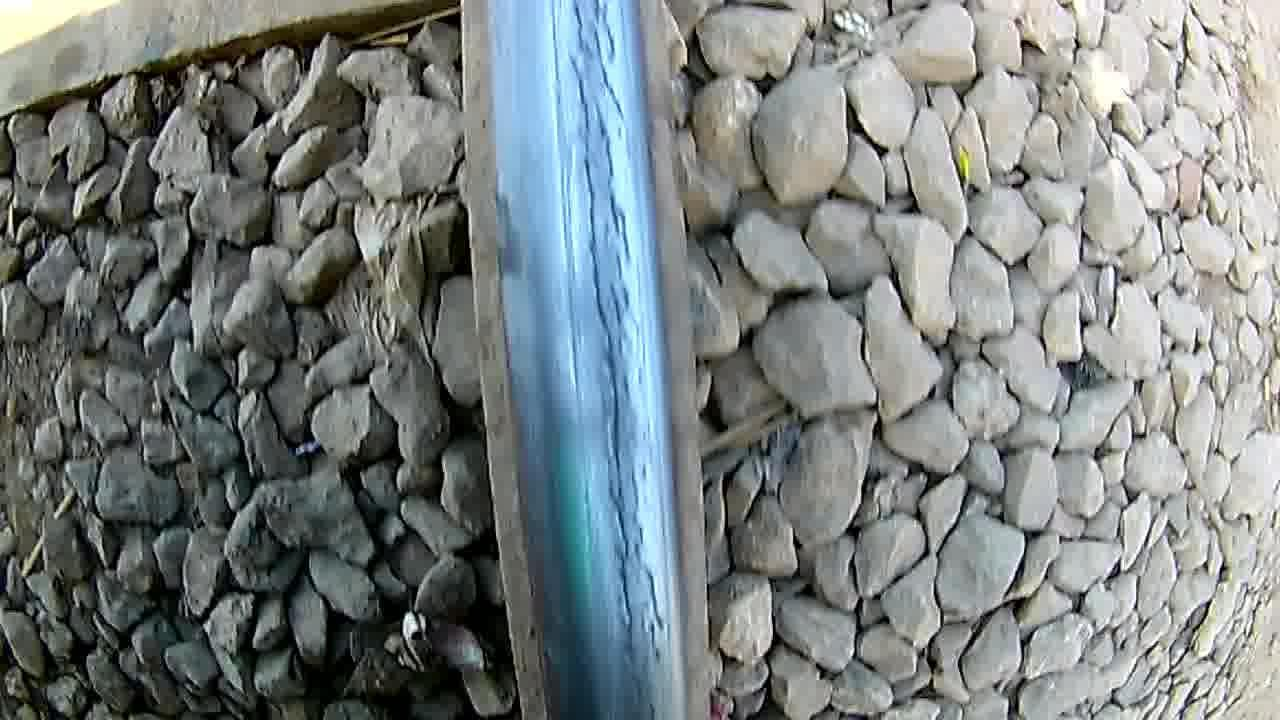crack: (554, 0, 666, 713)
